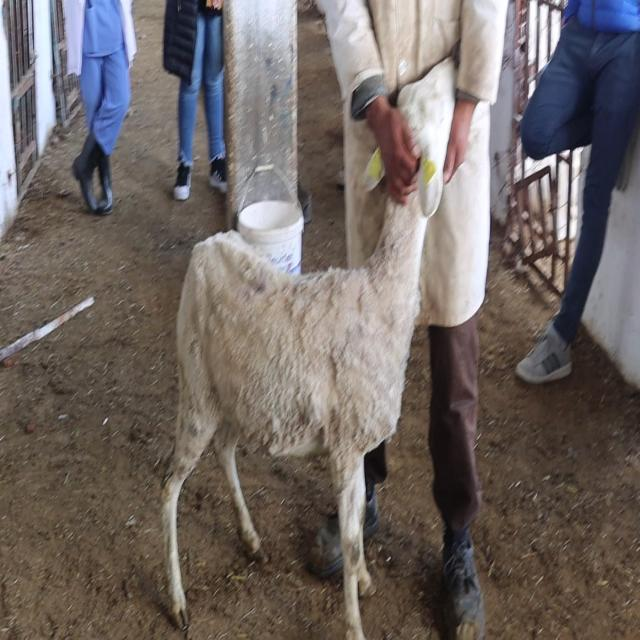Score_1: (162, 60, 455, 639)
